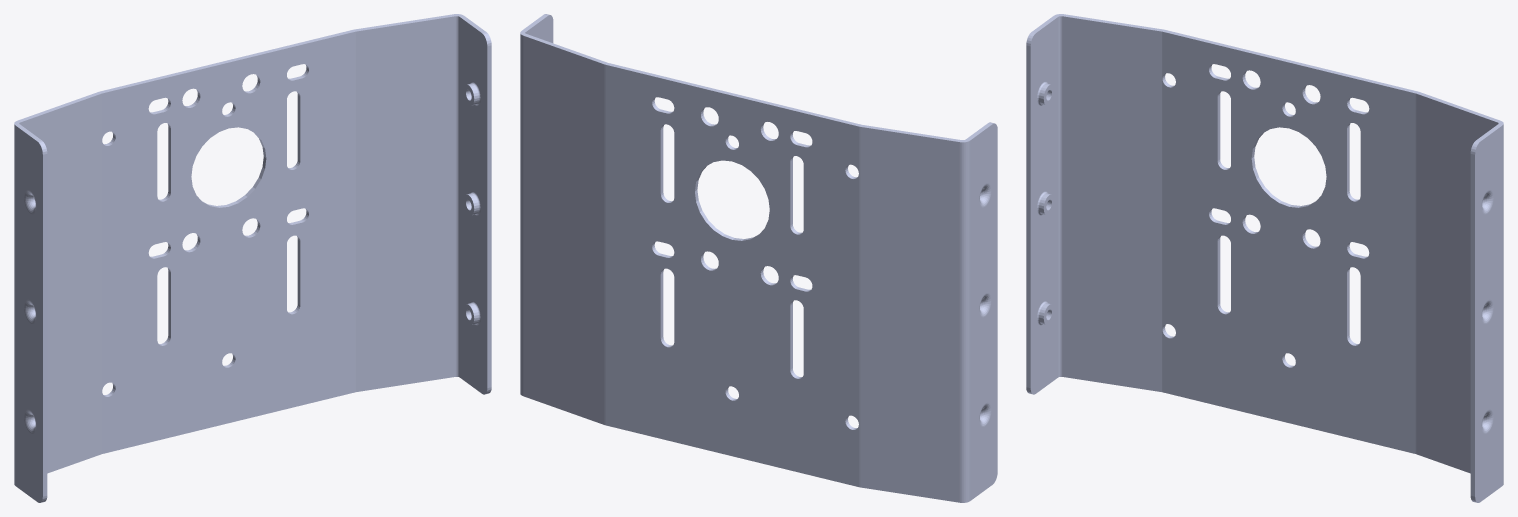
Rendered from robotino_gripper_plate.dae.
The picture shows the model from 3 angles, left to right: view 1: azimuth 30°, elevation 25°; view 2: azimuth 150°, elevation 25°; view 3: azimuth 330°, elevation 25°; orthographic projection.
Parts seen in each view (by area): view 1: S_Object; view 2: S_Object; view 3: S_Object.
Boxes of the visible parts, x1,y1,x2,y2 form: S_Object: (14,14,491,502); S_Object: (520,14,997,502); S_Object: (1026,14,1503,502).
Bounding box in the file's own units: 0.1498 × 0.115 × 0.0237.
